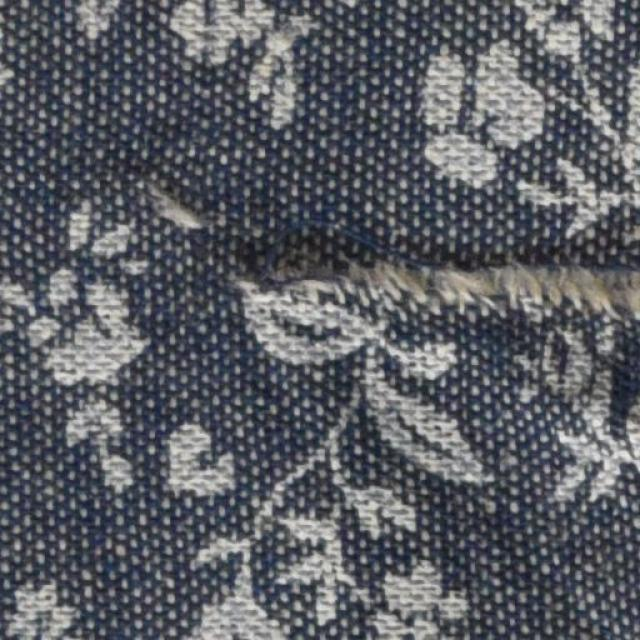Snag: (257, 211, 639, 348)
